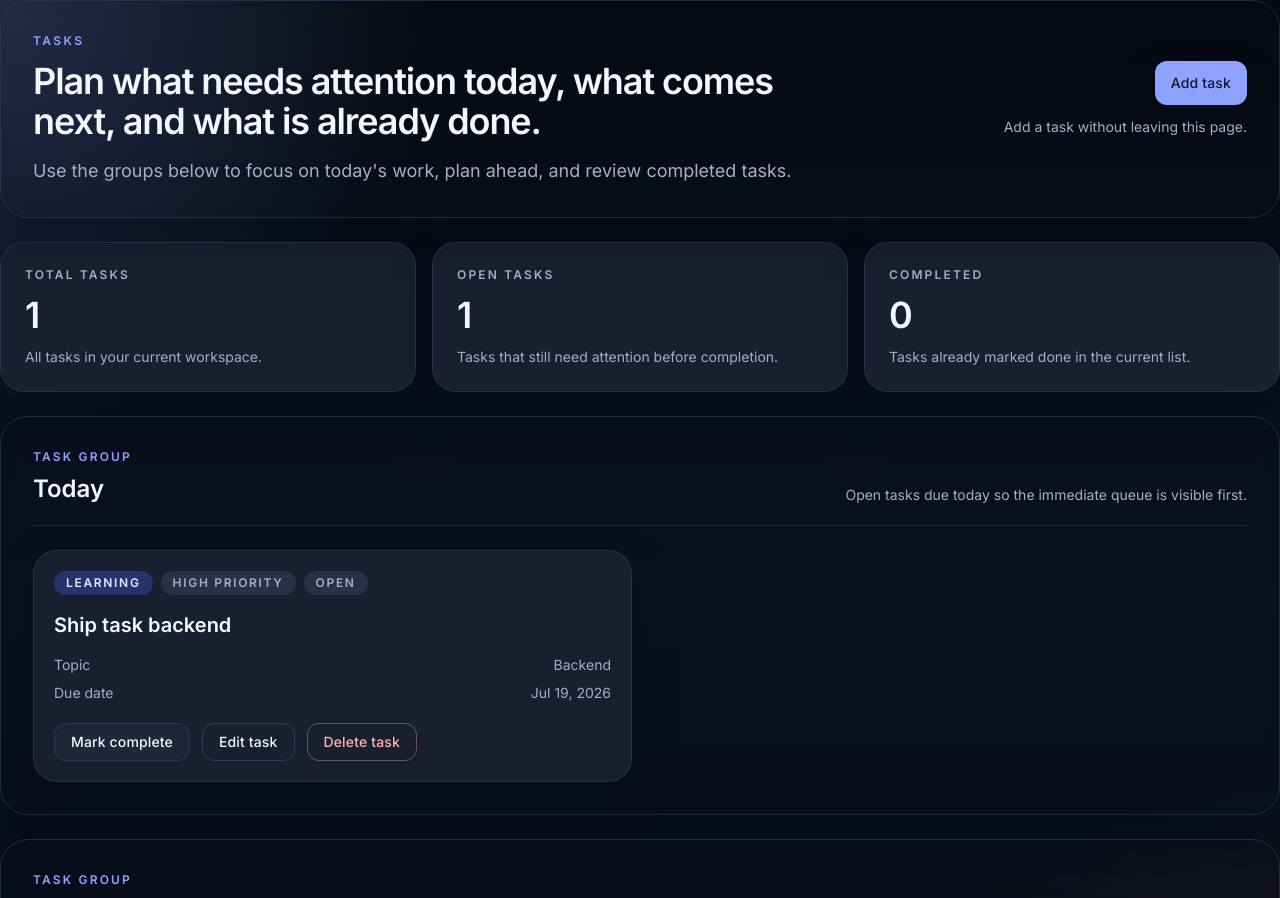
Test: TasksPage › optimistically moves a task into Completed while the toggle request is in flight
Expected: the heading "Ship task backend" is shown, [54,613,231,637]
Click the button "Mark complete" at (122, 742), box [54,723,190,761]
(page scrolled)
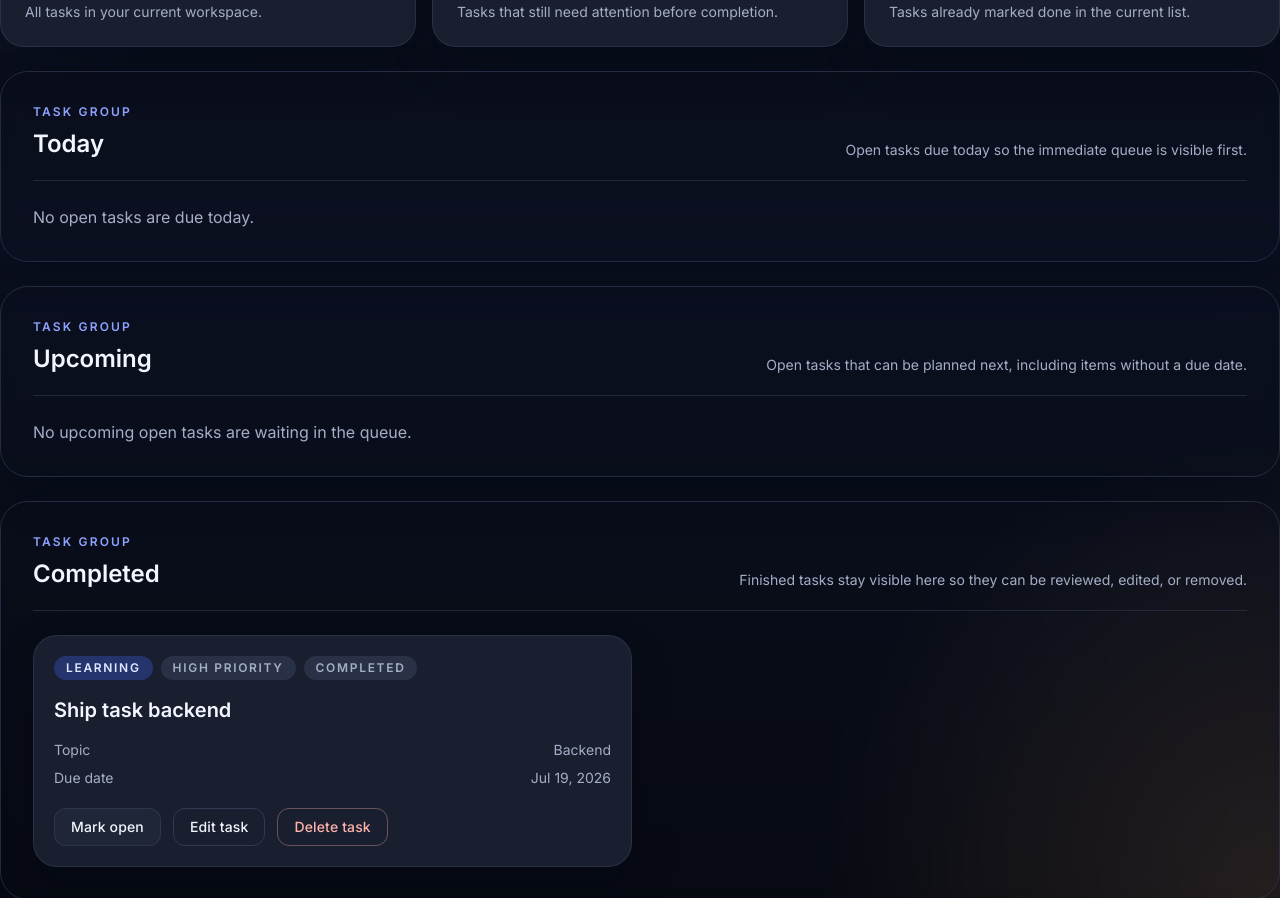
Expected: the heading "Ship task backend" is shown, [54,698,231,722]
Expected: the button "Mark open" is shown, [54,808,161,846]
